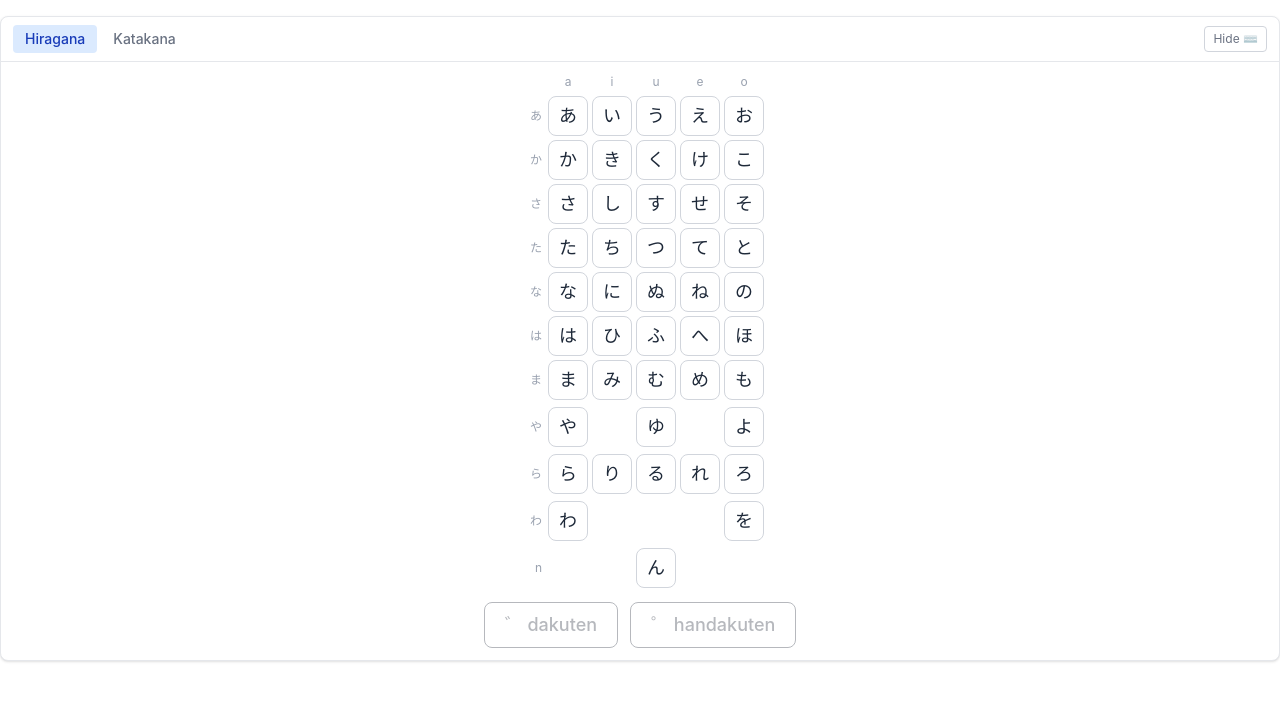
OnScreenKeyboard › enables both modifiers when pending char supports both (は)
This screenshot has width=1280, height=720.
Click the button "は": (568, 336) [548,316,588,356]
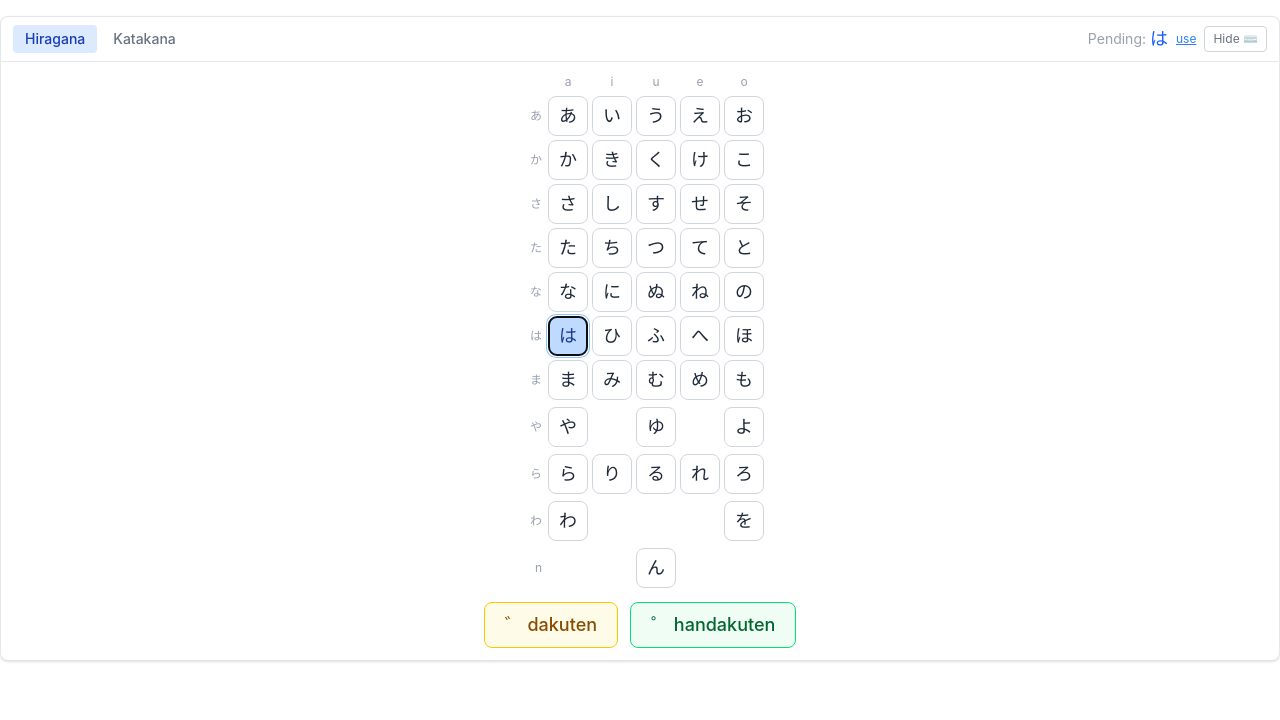
Expected: the button "゛ dakuten" is enabled, [484,602,618,648]
Expected: the button "゜ handakuten" is enabled, [630,602,796,648]
